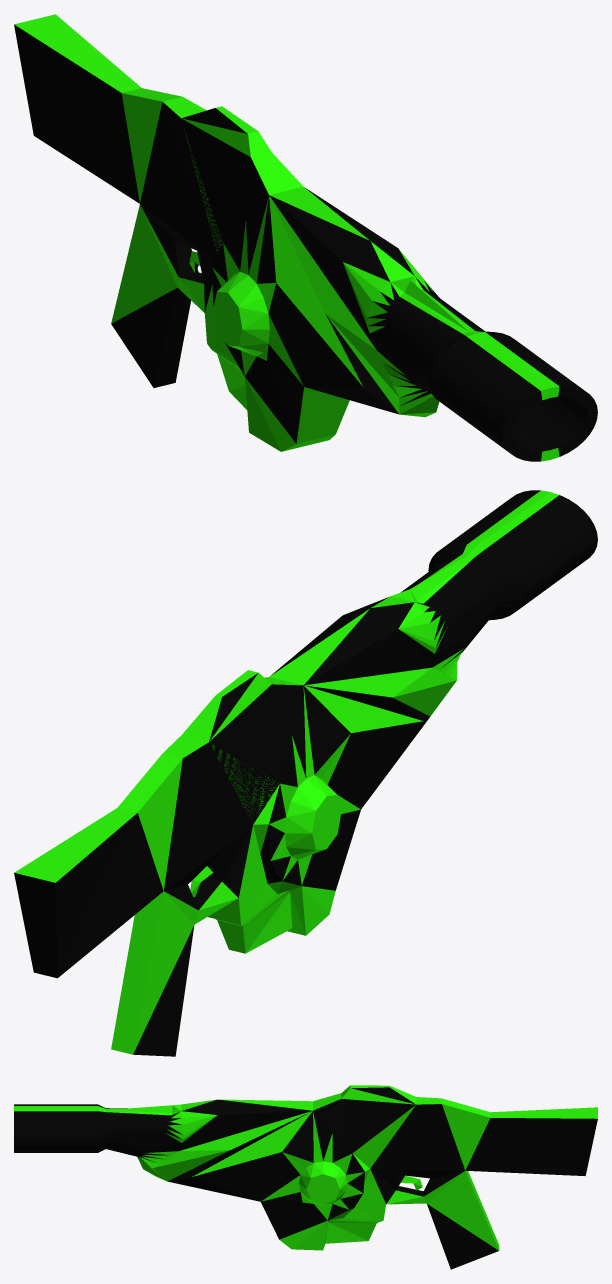
Rendered from Frogi_Gun.fbx.
3 renders of one model, top to bottom at view 1: azimuth 30°, elevation 25°; view 2: azimuth 150°, elevation 25°; view 3: azimuth 270°, elevation 25°, orthographic. The views are drawn at different scales.
Visible parts, largest first — view 1: Gun; view 2: Gun; view 3: Gun.
Boxes of the visible parts, x1,y1,x2,y2 form: Gun: (14, 14, 597, 461); Gun: (14, 490, 597, 1056); Gun: (14, 1085, 597, 1269).
Size of the model in its own units: 29.39 by 90.23 by 265.
